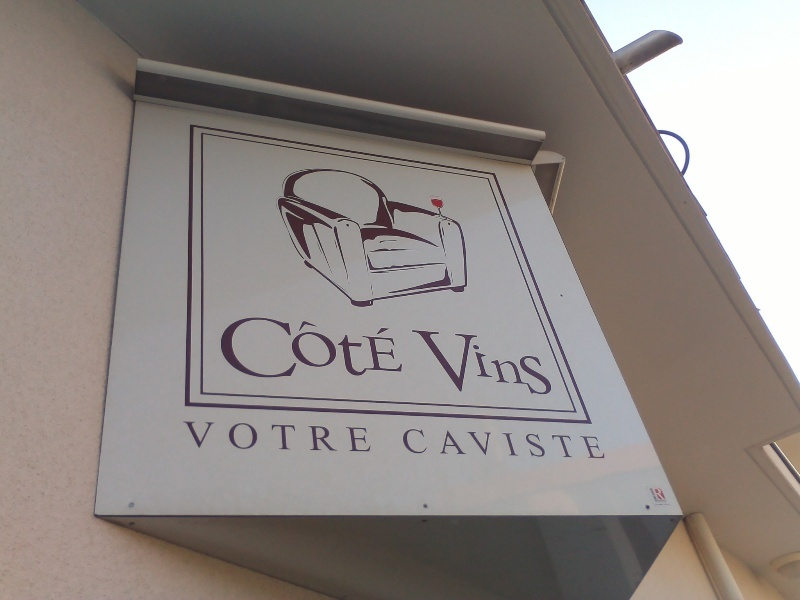text: (417, 327, 432, 397), (433, 327, 448, 397), (449, 327, 464, 397), (465, 327, 480, 397), (481, 327, 496, 397), (497, 327, 512, 397), (513, 327, 528, 397), (529, 327, 544, 397), (209, 313, 224, 381), (225, 313, 240, 381), (241, 313, 256, 381), (257, 313, 272, 381), (273, 313, 288, 381), (289, 313, 304, 381), (305, 313, 320, 381), (321, 313, 336, 381), (337, 313, 352, 381), (353, 313, 368, 381), (369, 313, 384, 381), (385, 313, 400, 381), (545, 327, 556, 397), (401, 313, 410, 381), (593, 429, 609, 461), (401, 429, 416, 461), (417, 429, 432, 461), (433, 429, 448, 461), (449, 429, 464, 461), (465, 429, 480, 461), (481, 429, 496, 461), (497, 429, 512, 461), (513, 429, 528, 461), (529, 429, 544, 461), (545, 429, 560, 461), (561, 429, 576, 461), (577, 429, 592, 461), (193, 422, 208, 453), (209, 422, 224, 453), (225, 422, 240, 453), (241, 422, 256, 453), (257, 422, 272, 453), (273, 422, 288, 453), (289, 422, 304, 453), (305, 422, 320, 453), (321, 422, 336, 453), (337, 422, 352, 453), (353, 422, 368, 453), (179, 422, 192, 453), (411, 327, 416, 397), (369, 422, 375, 453), (657, 487, 667, 502), (651, 487, 656, 502), (399, 429, 400, 461)
